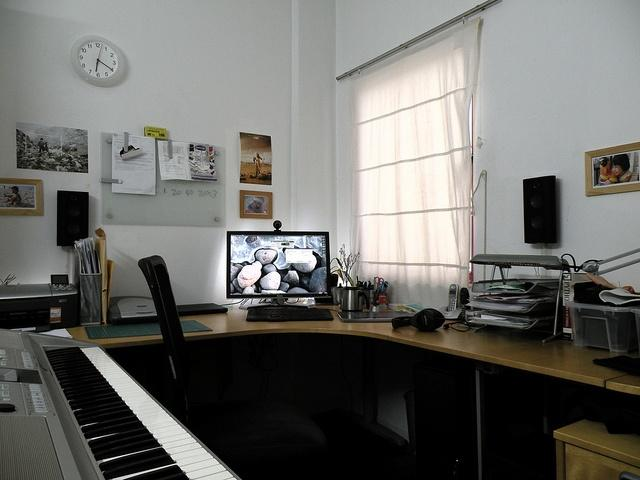AIO PC-Monitor-TV: (225, 229, 329, 306)
